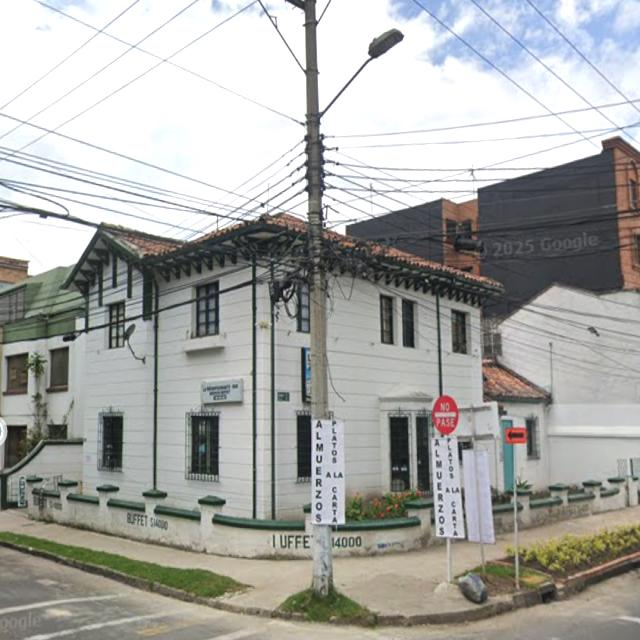fachada: (66, 215, 311, 518), (348, 137, 639, 318), (485, 285, 639, 483), (0, 267, 84, 469), (347, 199, 479, 274), (483, 359, 554, 489), (0, 256, 28, 290)
poste: (305, 0, 328, 419), (471, 405, 485, 573), (512, 446, 519, 589)
